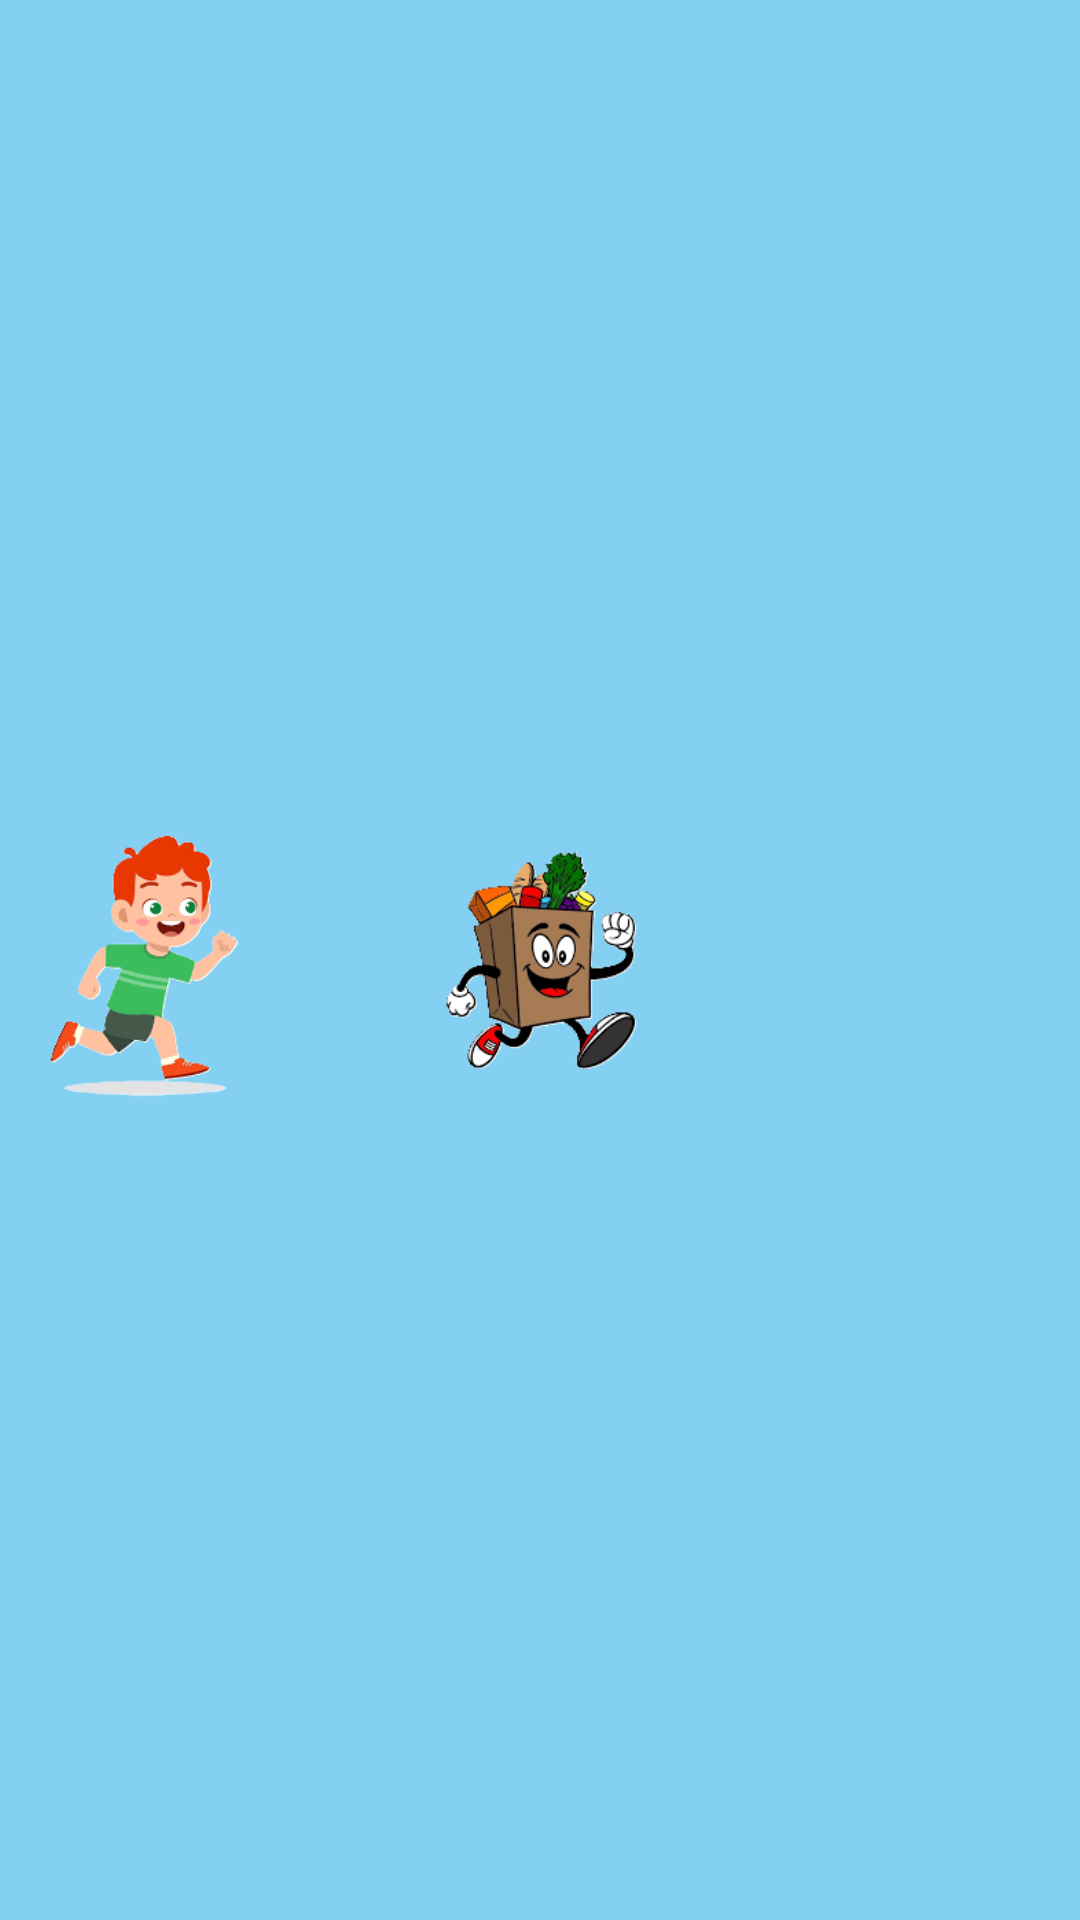

Screen size 1080*1920. Icon name, then its center in pixels as point (x, y):
ruuning boy: point (144, 965)
ruuning food: point (541, 960)
